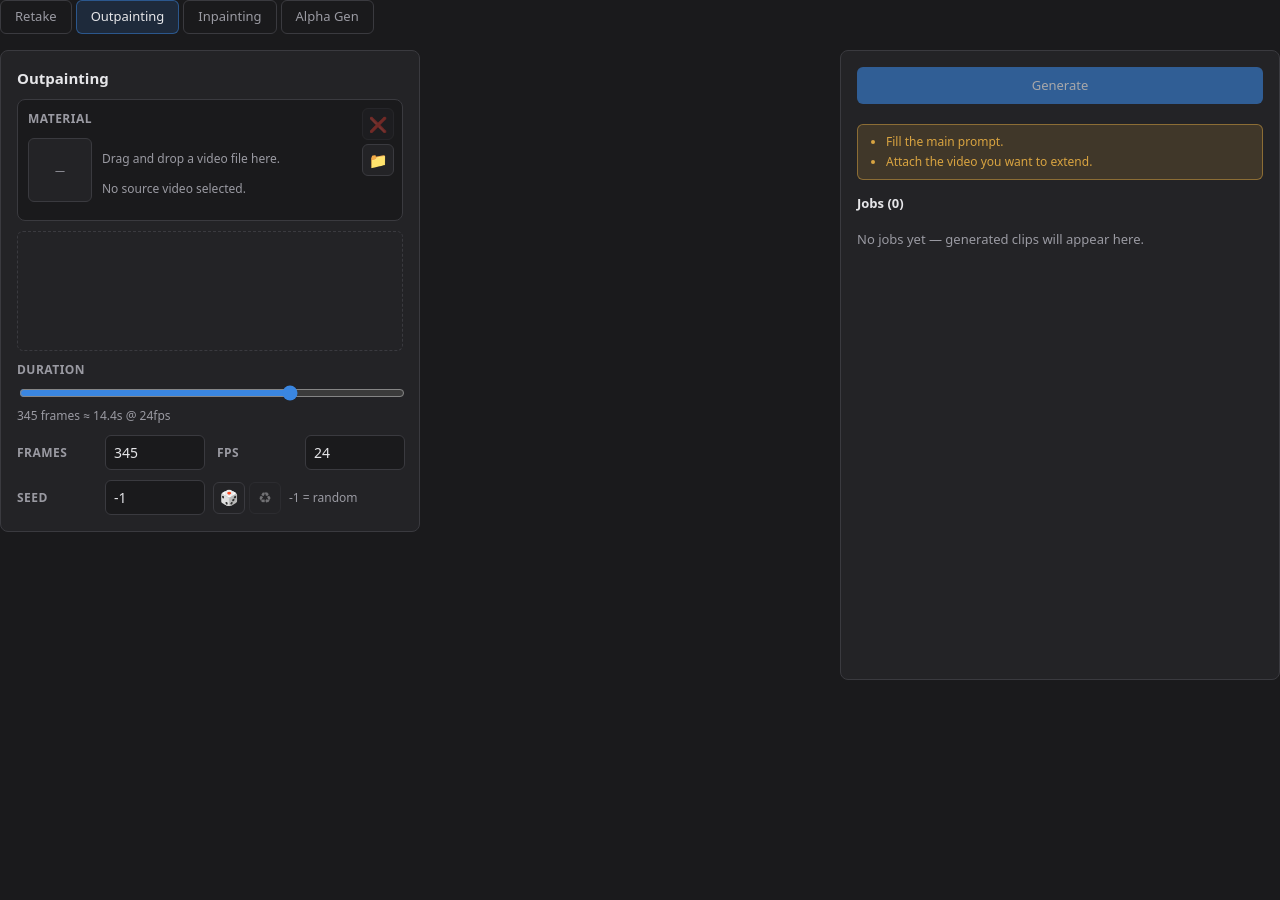
Test: OutpaintingPanel › draws no comfort warning while the engine family is unknown, however heavy the geometry
The image size is (1280, 900).
Step 1. Click the button named "choose source video" → [378, 160], box [362,144,394,176]
(page scrolled)
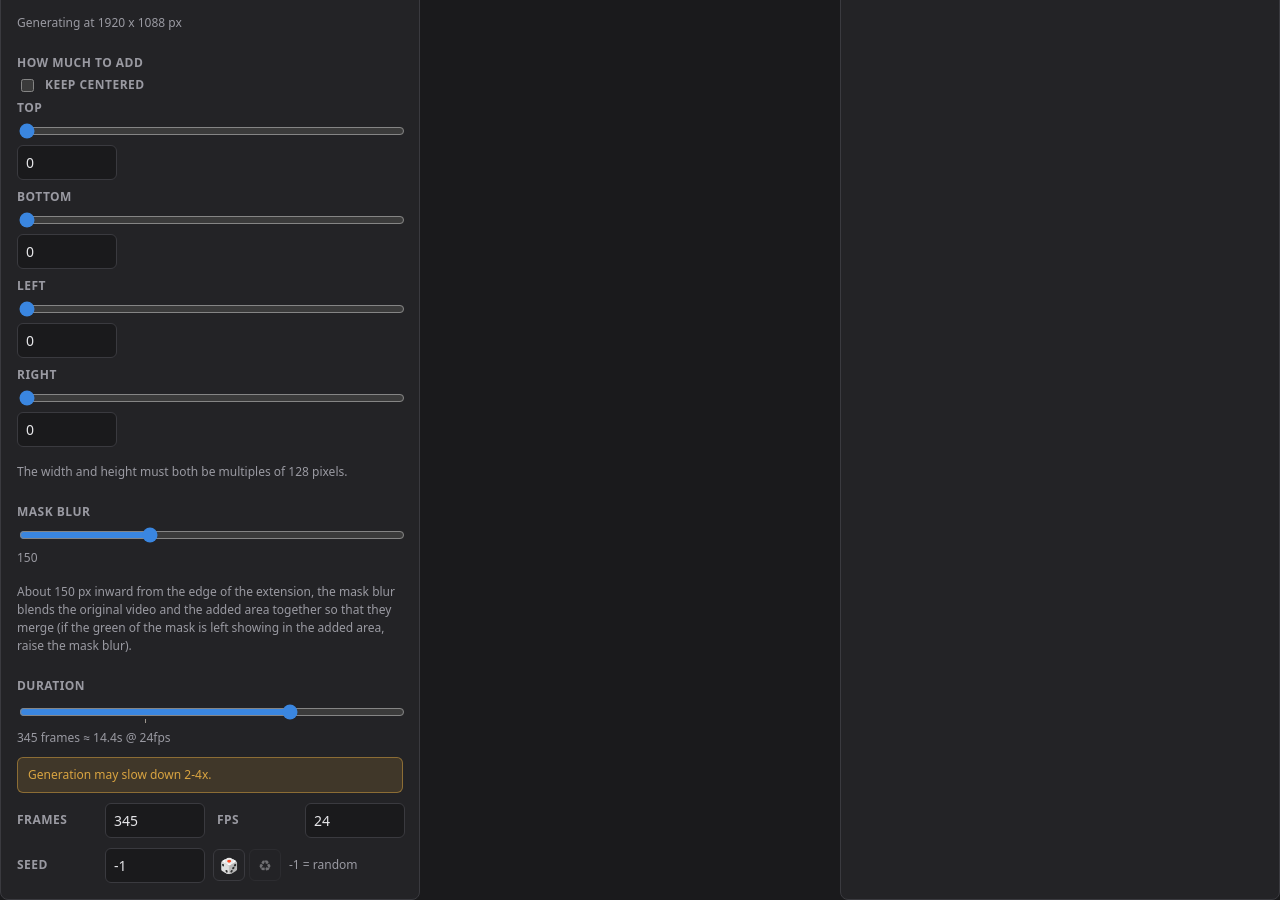
Expected: the slider labelled "Left" is shown, [19,301,405,317]
Expected: the text "Generating at 1920 x 1088 px" is shown, [17,14,182,31]
Expected: the text "Generation may slow down 2-4x." is shown, [17,757,403,793]
